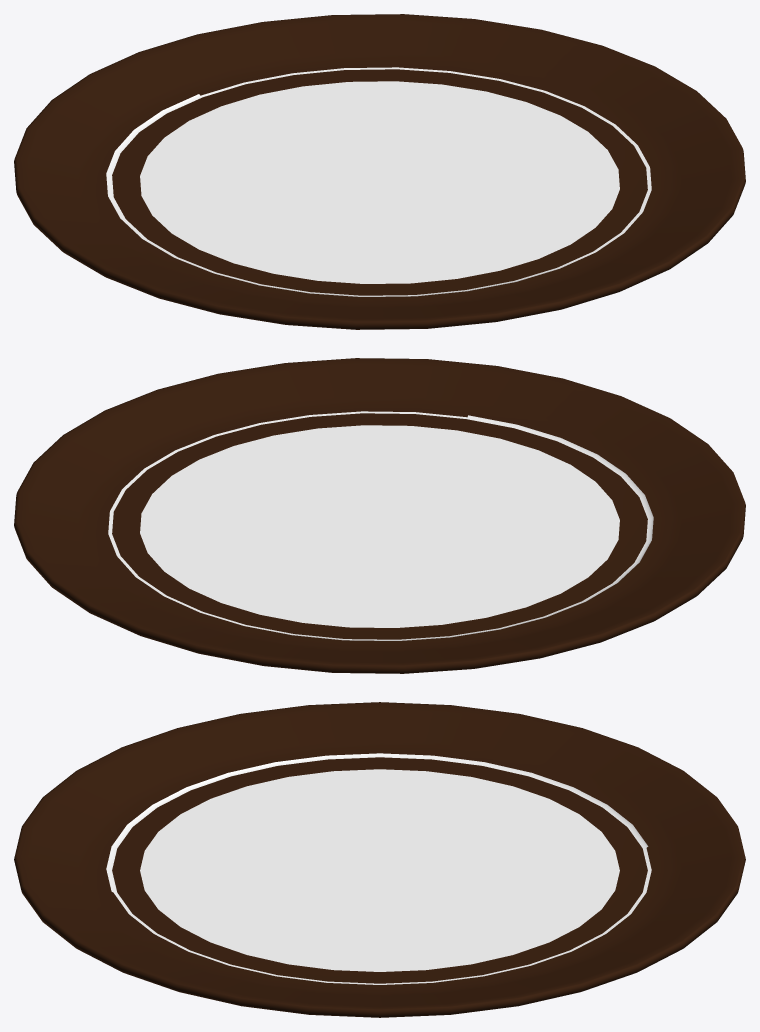
Rendered from Gateau6.fbx.
3 views of the same model, one above another, from view 1: azimuth 30°, elevation 25°; view 2: azimuth 150°, elevation 25°; view 3: azimuth 270°, elevation 25° (orthographic).
Parts seen in each view (by area): view 1: 13500_Wedding_Cake_v1_L1; view 2: 13500_Wedding_Cake_v1_L1; view 3: 13500_Wedding_Cake_v1_L1.
Part boxes in pixels (box(x1,y1,x2,y2)): 13500_Wedding_Cake_v1_L1: box(14, 14, 745, 329); 13500_Wedding_Cake_v1_L1: box(14, 358, 745, 673); 13500_Wedding_Cake_v1_L1: box(14, 702, 745, 1017).
Size of the model in its own units: 1859 by 73.43 by 1859.
